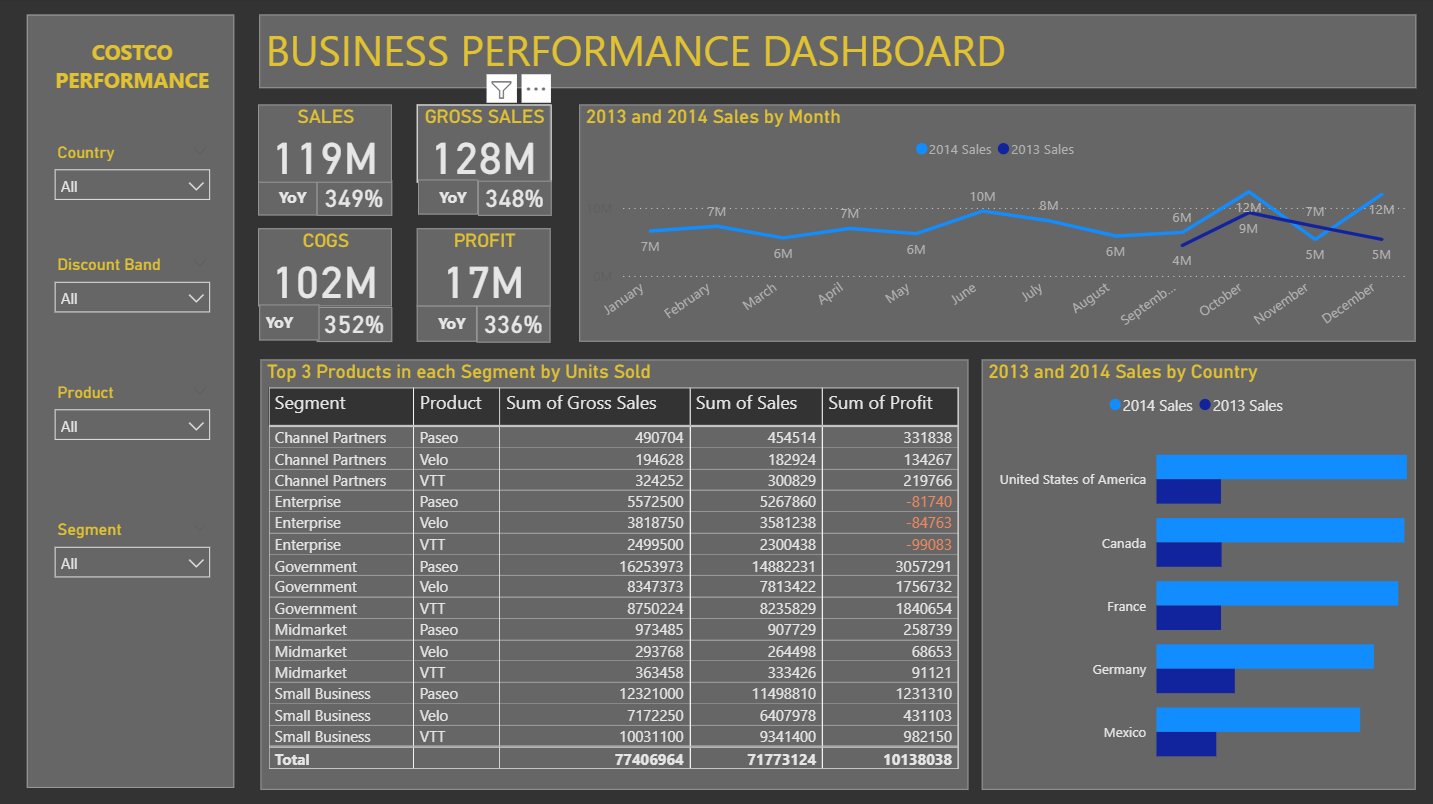

The dashboard page shown, as its layout file describes it:
{"tool":"powerbi","page":{"name":"Page 1","canvas":[1280,720],"ordinal":0},"visuals":[{"type":"shape","box":[26.1,16.1,185,688.9],"z":0},{"type":"textbox","box":[232.1,16.1,1030.3,65.8],"z":1000},{"type":"card","title":"GROSS SALES","fields":{"Values":["Sum(financials.Gross Sales)"]},"box":[373.2,96.1,119.4,70],"z":2000},{"type":"card","title":"COGS","fields":{"Values":["Sum(financials.COGS)"]},"box":[231.9,205.8,119.4,70],"z":3000},{"type":"card","title":"PROFIT","fields":{"Values":["Sum(financials.Profit)"]},"box":[373.2,205.8,119.4,70],"z":4000},{"type":"card","title":"SALES","fields":{"Values":["financials.Sum of  Sales YoY%"]},"box":[284.3,163.8,67,31],"z":5000},{"type":"textbox","box":[231.6,162.9,53,32],"z":6000},{"type":"card","title":"SALES","fields":{"Values":["Sum(financials. Sales)"]},"box":[231.9,96.1,119.4,70],"z":7000},{"type":"card","title":"SALES","fields":{"Values":["financials.Sum of Gross Sales YoY%"]},"box":[427,163.8,65.8,31],"z":8000},{"type":"textbox","box":[373.6,162.6,53.4,31],"z":8001},{"type":"card","title":"SALES","fields":{"Values":["financials.Sum of Profit YoY%"]},"box":[426.5,274.7,65.7,32.5],"z":8002},{"type":"card","title":"SALES","fields":{"Values":["financials.Sum of COGS YoY%"]},"box":[284.3,275.6,67,31],"z":8003},{"type":"textbox","box":[232.1,274.3,53.4,32.3],"z":8004},{"type":"textbox","box":[373.1,274.7,53.5,31.8],"z":8005},{"type":"lineChart","title":"2013 and 2014 Sales by Month","fields":{"Category":["financials.Date.Variation.Date Hierarchy.Month"],"Y":["financials.2014 Sales","financials.2013 Sales"]},"box":[517.6,95.6,744.8,211],"z":8006},{"type":"tableEx","title":"Top 3 Products in each Segment by Units Sold","fields":{"Values":["financials.Segment","financials.Product","Sum(financials.Gross Sales)","Sum(financials. Sales)","Sum(financials.Profit)"]},"box":[233.4,322.7,630.6,383.6],"z":8007},{"type":"clusteredBarChart","title":"2013 and 2014 Sales by Country","fields":{"Y":["financials.2014 Sales","financials.2013 Sales"],"Category":["financials.Country"]},"box":[876.3,322.7,386,383.6],"z":8008},{"type":"textbox","box":[39.7,31,158.9,64.5],"z":8009},{"type":"slicer","fields":{"Values":["financials.Country"]},"box":[39.7,124.1,158.9,81.9],"z":8010},{"type":"slicer","fields":{"Values":["financials.Discount Band"]},"box":[39.7,224.7,158.9,81.9],"z":8011},{"type":"slicer","fields":{"Values":["financials.Product"]},"box":[39.7,338.9,158.9,81.9],"z":8012},{"type":"slicer","fields":{"Values":["financials.Segment"]},"box":[39.7,460.5,158.9,81.9],"z":8013}]}

Visuals, with their boxes in screenshot pixels (x1, y1, x2, y2), scaled from the page's 1280x720 canvas onto the 1433x804 screenshot:
shape: <region>29, 18, 236, 787</region>
textbox: <region>260, 18, 1413, 91</region>
"GROSS SALES" card: <region>418, 107, 551, 185</region>
"COGS" card: <region>260, 230, 393, 308</region>
"PROFIT" card: <region>418, 230, 551, 308</region>
"SALES" card: <region>318, 183, 393, 218</region>
textbox: <region>259, 182, 319, 218</region>
"SALES" card: <region>260, 107, 393, 185</region>
"SALES" card: <region>478, 183, 552, 218</region>
textbox: <region>418, 182, 478, 216</region>
"SALES" card: <region>477, 307, 551, 343</region>
"SALES" card: <region>318, 308, 393, 342</region>
textbox: <region>260, 306, 320, 342</region>
textbox: <region>418, 307, 478, 342</region>
"2013 and 2014 Sales by Month" lineChart: <region>579, 107, 1413, 342</region>
"Top 3 Products in each Segment by Units Sold" tableEx: <region>261, 360, 967, 789</region>
"2013 and 2014 Sales by Country" clusteredBarChart: <region>981, 360, 1413, 789</region>
textbox: <region>44, 35, 222, 107</region>
slicer - financials.Country: <region>44, 139, 222, 230</region>
slicer - financials.Discount Band: <region>44, 251, 222, 342</region>
slicer - financials.Product: <region>44, 378, 222, 470</region>
slicer - financials.Segment: <region>44, 514, 222, 606</region>
